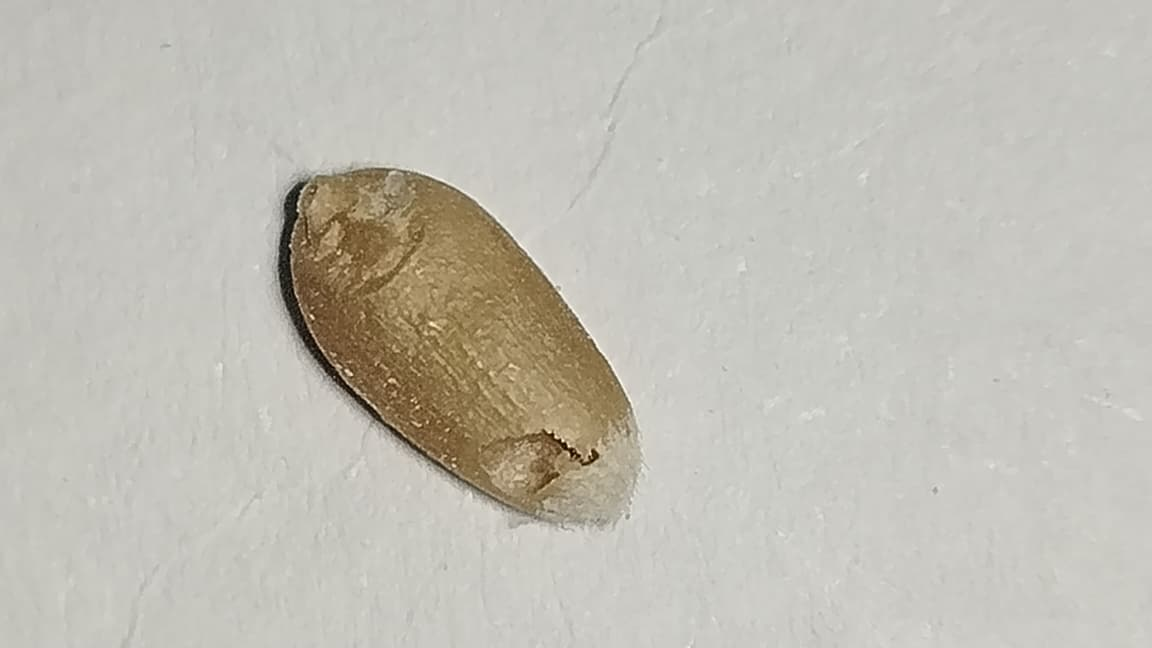damage: (291, 168, 640, 524)
insectdamage: (456, 410, 618, 510), (306, 160, 436, 278)
